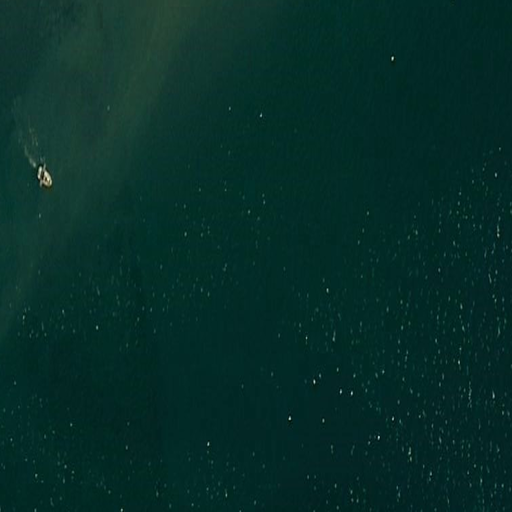ship: (34, 163, 55, 191)
